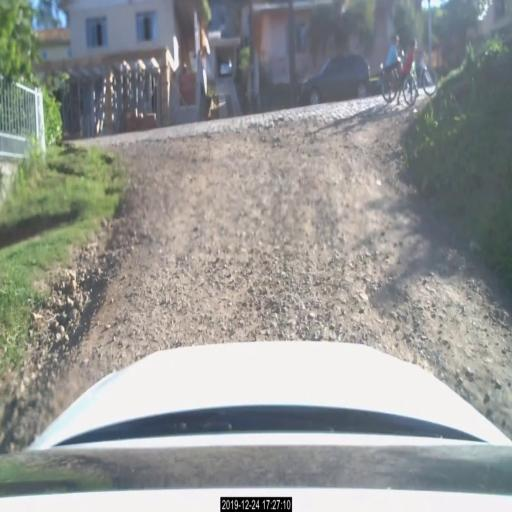Pothole: (48, 218, 118, 340)
